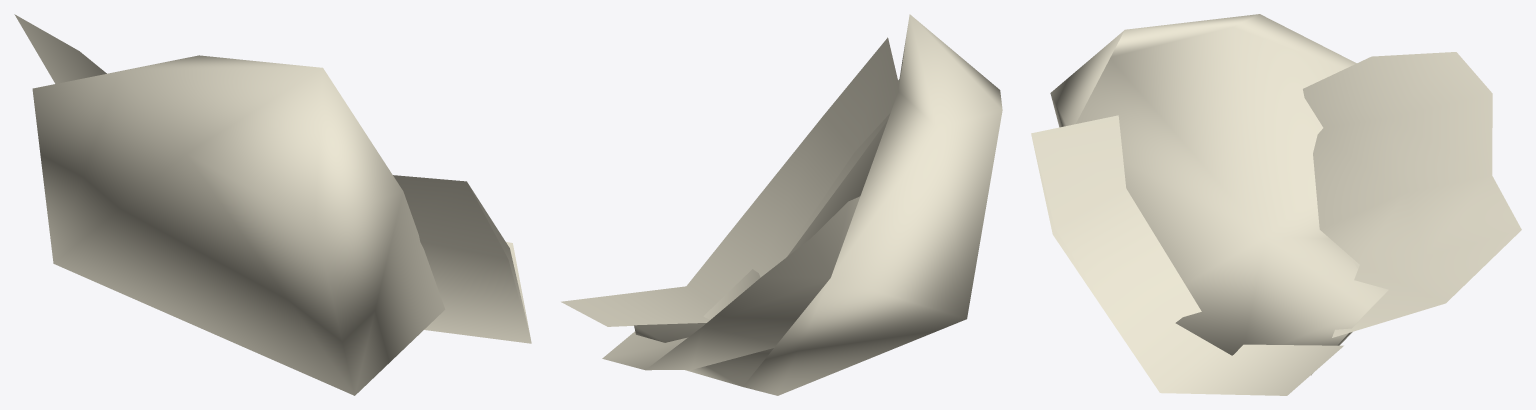
File: fx_char_gib_chunk_bone02.glb
3 views of the same model, side by side, from view 1: azimuth 30°, elevation 25°; view 2: azimuth 150°, elevation 25°; view 3: azimuth 270°, elevation 25° (orthographic). The views are drawn at different scales.
Visible parts, largest first — view 1: fx_char_gib_chunk_bone02; view 2: fx_char_gib_chunk_bone02; view 3: fx_char_gib_chunk_bone02.
Boxes of the visible parts, <box> form: fx_char_gib_chunk_bone02: <box>14,14,531,395</box>; fx_char_gib_chunk_bone02: <box>561,14,1002,395</box>; fx_char_gib_chunk_bone02: <box>1031,14,1521,395</box>.
Size of the model in its own units: 2.83 by 2.05 by 3.32.
